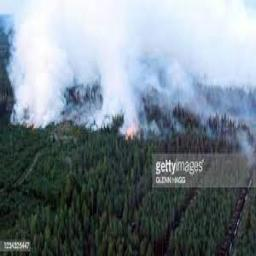Heavy smoke: (1, 1, 255, 166)
